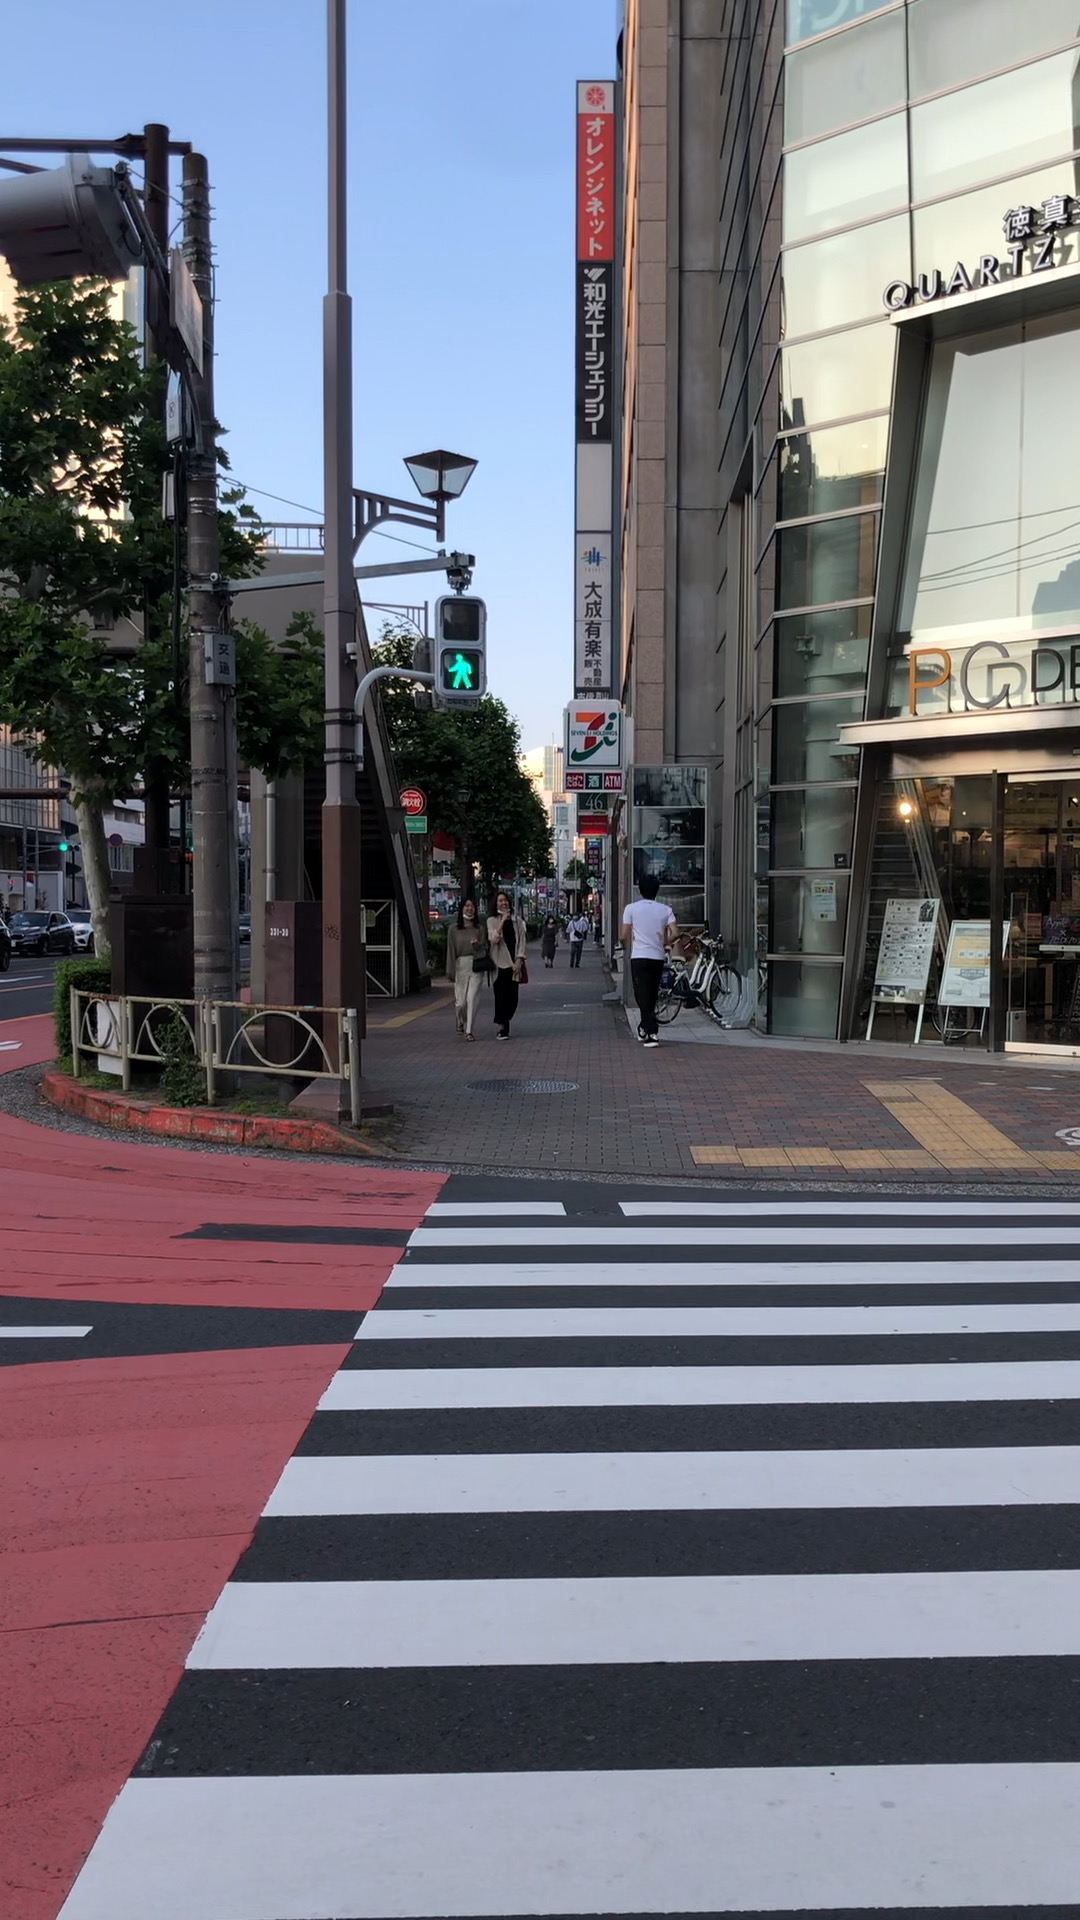green: (435, 593, 487, 696)
